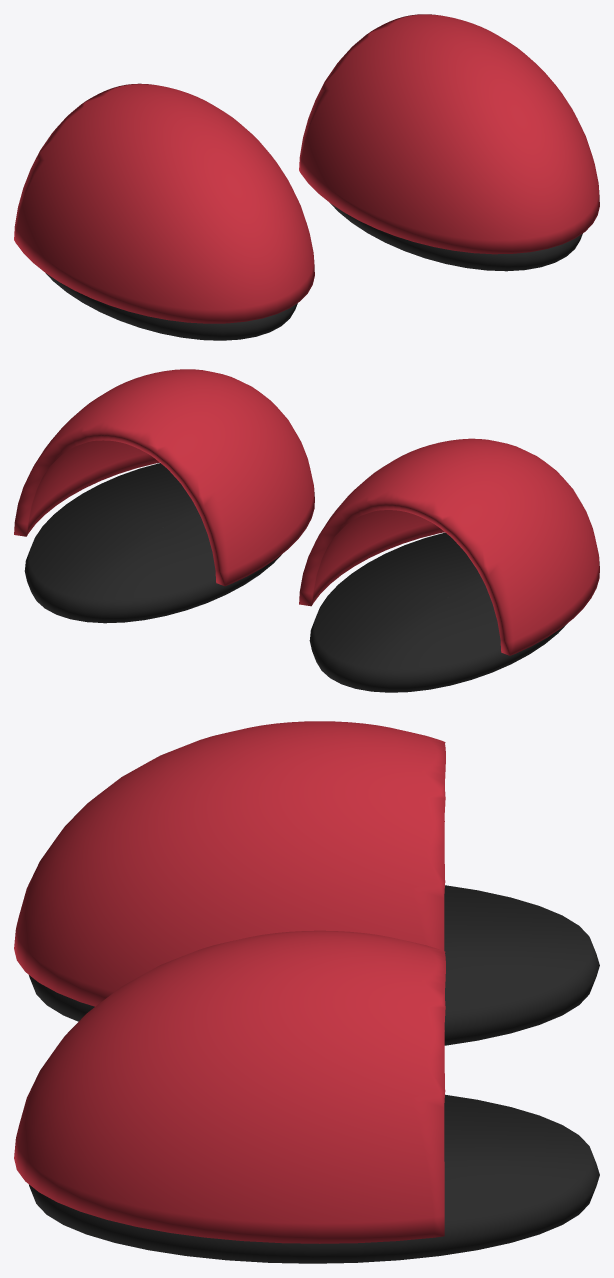
File: slides1.fbx
The picture shows the model from 3 angles, top to bottom: view 1: azimuth 30°, elevation 25°; view 2: azimuth 150°, elevation 25°; view 3: azimuth 270°, elevation 25°; orthographic projection. The views are drawn at different scales.
Parts seen in each view (by area): view 1: slides1; view 2: slides1; view 3: slides1.
Part boxes in pixels (left/top/right/bottom): slides1: left=14, top=14, right=599, bottom=340; slides1: left=14, top=369, right=599, bottom=692; slides1: left=14, top=721, right=599, bottom=1263.
Size of the model in its own units: 0.6413 by 0.194 by 0.4184.
